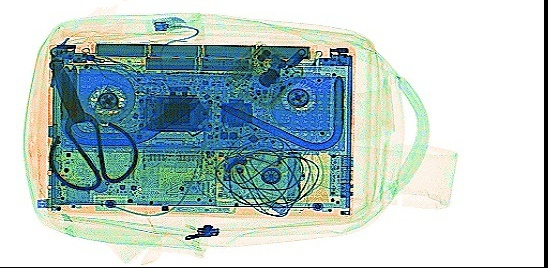scissors: (47, 53, 139, 192)
